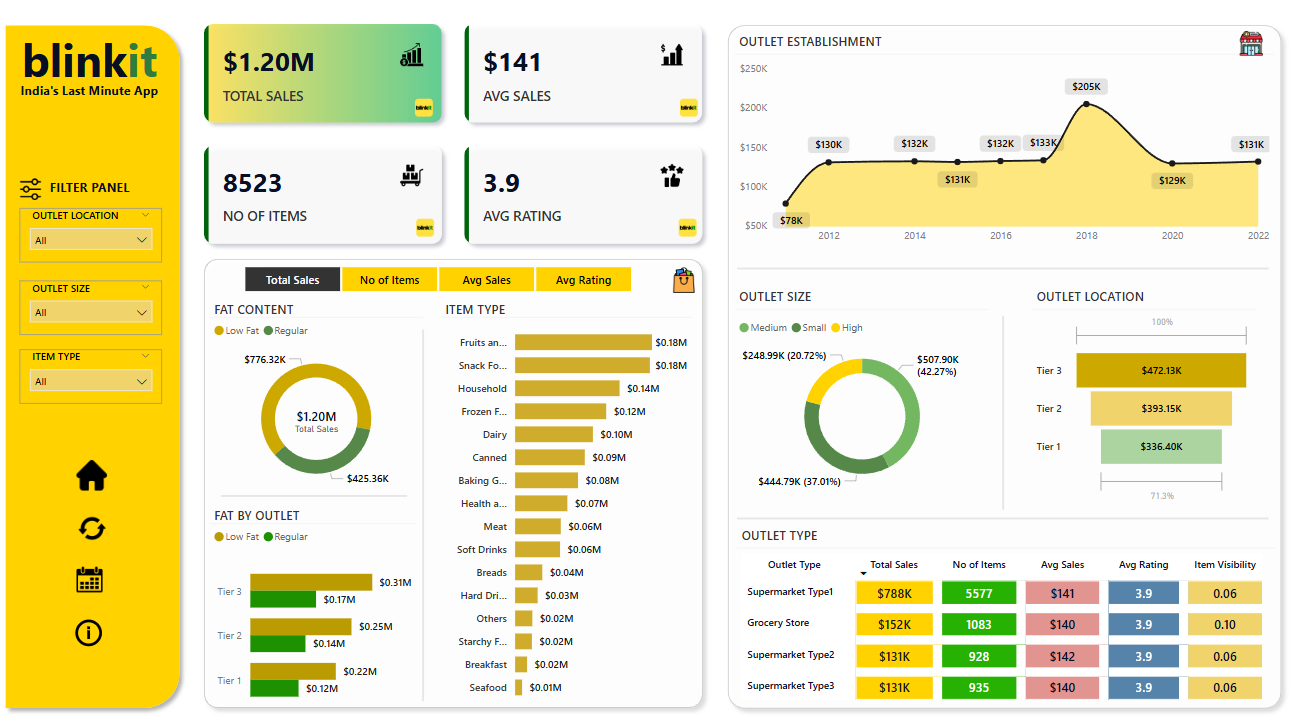

The page's visual inventory and layout, read from the dashboard file:
{"tool":"powerbi","page":{"name":"Home","canvas":[1400,800],"ordinal":0},"visuals":[{"type":"shape","box":[0,25.3,205,750.7],"z":0},{"type":"textbox","box":[0,33,198.1,82.1],"z":1000},{"type":"cardVisual","fields":{"Data":["BlinkIT Grocery Data.Total Sum Sales","BlinkIT Grocery Data.Average Sales","BlinkIT Grocery Data.No of Items","BlinkIT Grocery Data.Avg Rating"]},"box":[204.8,15.8,569.7,270.8],"z":2000},{"type":"image","box":[72.4,496,59,42.9],"z":3000},{"type":"image","box":[76.4,555,50.9,38.9],"z":4000},{"type":"image","box":[80.4,608.6,37.5,40.2],"z":5000},{"type":"shape","box":[774.5,25.5,611.7,751.1],"z":6000},{"type":"areaChart","title":"OUTLET ESTABLISHMENT","fields":{"Y":["BlinkIT Grocery Data.Total Sum Sales"],"Category":["BlinkIT Grocery Data.Outlet Establishment Year2"]},"box":[790.6,42.5,578.3,234],"z":7000},{"type":"textbox","box":[0,89.6,198.1,34],"z":8000},{"type":"donutChart","title":"OUTLET SIZE","fields":{"Category":["BlinkIT Grocery Data.Outlet Size"],"Y":["BlinkIT Grocery Data.Total Sum Sales"]},"box":[790.6,316,273.6,224.5],"z":9000},{"type":"funnel","title":"OUTLET LOCATION","fields":{"Category":["BlinkIT Grocery Data.Outlet Location Type"],"Y":["BlinkIT Grocery Data.Total Sum Sales"]},"box":[1110.4,316,240.6,234],"z":10000},{"type":"pivotTable","title":"OUTLET TYPE","fields":{"Rows":["BlinkIT Grocery Data.Outlet Type"],"Values":["BlinkIT Grocery Data.Total Sum Sales","BlinkIT Grocery Data.No of Items","BlinkIT Grocery Data.Average Sales","BlinkIT Grocery Data.Avg Rating","Avg(BlinkIT Grocery Data.Item Visibility)"]},"box":[793.6,572.3,578.7,197.1],"z":11000},{"type":"shape","box":[793.4,284.9,570.8,19.8],"z":12000},{"type":"shape","box":[1064.2,346.2,29.2,208.5],"z":13000},{"type":"shape","box":[212.8,276.6,553.2,500],"z":14000},{"type":"donutChart","title":"FAT CONTENT","fields":{"Y":["BlinkIT Grocery Data.Total Sum Sales"],"Category":["BlinkIT Grocery Data.Item Fat Content"]},"box":[228.3,330.2,229.2,213.2],"z":15000},{"type":"shape","box":[793.4,553.8,570.8,19.8],"z":16000},{"type":"cardVisual","fields":{"Data":["BlinkIT Grocery Data.Total Sum Sales"]},"box":[291.9,428.1,102,54.5],"z":17000},{"type":"slicer","fields":{"Values":["Metric.Metric"]},"box":[240,287.5,464.2,39.6],"z":18000},{"type":"barChart","title":"ITEM TYPE","fields":{"Y":["BlinkIT Grocery Data.Total Sum Sales"],"Category":["BlinkIT Grocery Data.Item Type"]},"box":[475.3,330.2,269.8,438.1],"z":19000},{"type":"shape","box":[442.5,360.4,29.2,399.1],"z":20000},{"type":"clusteredBarChart","title":"FAT BY OUTLET","fields":{"Y":["BlinkIT Grocery Data.Total Sum Sales"],"Category":["BlinkIT Grocery Data.Outlet Location Type"],"Series":["BlinkIT Grocery Data.Item Fat Content"]},"box":[228.3,550.9,221.7,229.2],"z":21000},{"type":"shape","box":[239.6,529.2,200,19.8],"z":22000},{"type":"image","box":[725.5,108.5,33,29.2],"z":23000},{"type":"image","box":[723.6,237.7,33,29.2],"z":24000},{"type":"image","box":[442.5,237.7,33,29.2],"z":25000},{"type":"image","box":[440.6,108.5,33,29.2],"z":26000},{"type":"image","box":[715.6,289.2,41.3,36.9],"z":27000},{"type":"image","box":[1327.5,33.4,36,40.4],"z":28000},{"type":"slicer","fields":{"Values":["BlinkIT Grocery Data.Outlet Location Type"]},"box":[23.7,231.2,153,58],"z":29000},{"type":"slicer","fields":{"Values":["BlinkIT Grocery Data.Outlet Size"]},"box":[23.7,307.7,153,58],"z":30000},{"type":"slicer","fields":{"Values":["BlinkIT Grocery Data.Item Type"]},"box":[23.7,382.4,153,58],"z":31000},{"type":"textbox","box":[36.8,193.4,126.4,31.1],"z":32000},{"type":"image","box":[18.9,184,34.9,53.8],"z":33000},{"type":"actionButton","box":[79.1,666.2,38.9,40.2],"z":38000}]}

Visuals, with their boxes in screenshot pixels (x1, y1, x2, y2), scaled from the page's 1400x800 canvas onto the 1299x726 screenshot:
shape: locate(0, 23, 190, 704)
textbox: locate(0, 30, 184, 104)
cardVisual - BlinkIT Grocery Data.Total Sum Sales x BlinkIT Grocery Data.Average Sales: locate(190, 14, 719, 260)
image: locate(67, 450, 122, 489)
image: locate(71, 504, 118, 539)
image: locate(75, 552, 109, 589)
shape: locate(719, 23, 1286, 705)
"OUTLET ESTABLISHMENT" areaChart: locate(734, 39, 1270, 251)
textbox: locate(0, 81, 184, 112)
"OUTLET SIZE" donutChart: locate(734, 287, 987, 491)
"OUTLET LOCATION" funnel: locate(1030, 287, 1254, 499)
"OUTLET TYPE" pivotTable: locate(736, 519, 1273, 698)
shape: locate(736, 259, 1266, 277)
shape: locate(987, 314, 1015, 503)
shape: locate(197, 251, 711, 705)
"FAT CONTENT" donutChart: locate(212, 300, 424, 493)
shape: locate(736, 503, 1266, 521)
cardVisual - BlinkIT Grocery Data.Total Sum Sales: locate(271, 389, 365, 438)
slicer - Metric.Metric: locate(223, 261, 653, 297)
"ITEM TYPE" barChart: locate(441, 300, 691, 697)
shape: locate(411, 327, 438, 689)
"FAT BY OUTLET" clusteredBarChart: locate(212, 500, 418, 708)
shape: locate(222, 480, 408, 498)
image: locate(673, 98, 704, 125)
image: locate(671, 216, 702, 242)
image: locate(411, 216, 441, 242)
image: locate(409, 98, 439, 125)
image: locate(664, 262, 702, 296)
image: locate(1232, 30, 1265, 67)
slicer - BlinkIT Grocery Data.Outlet Location Type: locate(22, 210, 164, 262)
slicer - BlinkIT Grocery Data.Outlet Size: locate(22, 279, 164, 332)
slicer - BlinkIT Grocery Data.Item Type: locate(22, 347, 164, 400)
textbox: locate(34, 176, 151, 204)
image: locate(18, 167, 50, 216)
actionButton: locate(73, 605, 109, 641)
